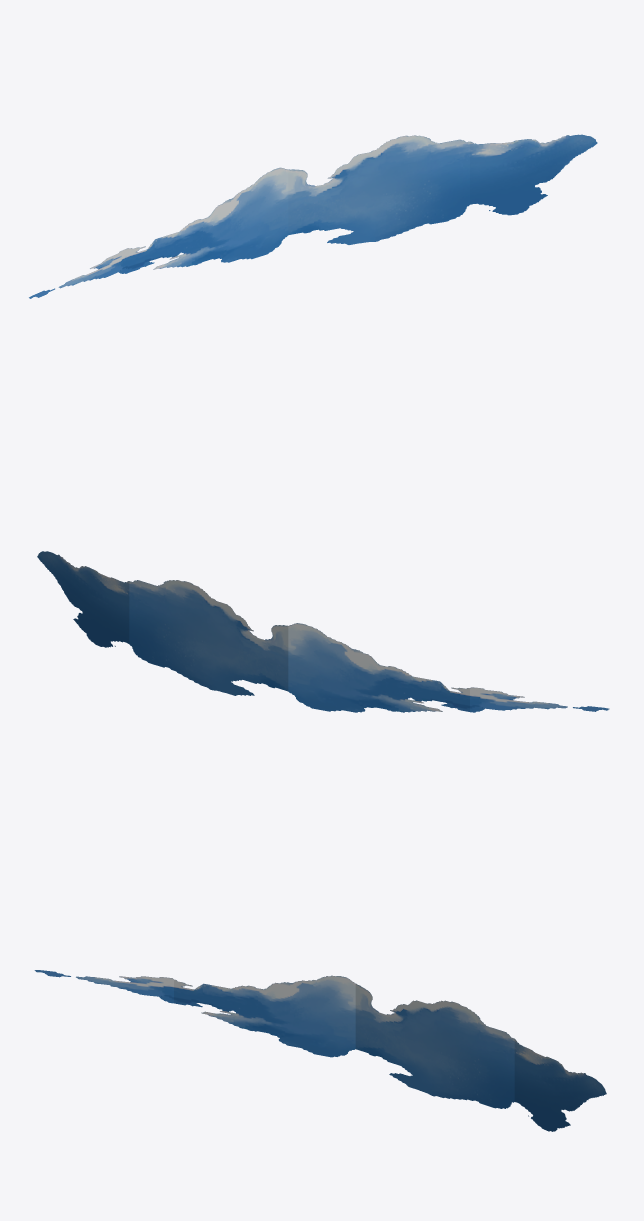
Rendered from Cloud_1_3.fbx.
The picture shows the model from 3 angles, top to bottom: view 1: azimuth 30°, elevation 25°; view 2: azimuth 150°, elevation 25°; view 3: azimuth 330°, elevation 25°; orthographic projection.
Visible parts, largest first — view 1: Cloud_1_3; view 2: Cloud_1_3; view 3: Cloud_1_3.
Part boxes in pixels (x1=…): Cloud_1_3: x1=29, y1=134, x2=597, y2=298; Cloud_1_3: x1=37, y1=551, x2=609, y2=712; Cloud_1_3: x1=34, y1=970, x2=606, y2=1131.
Bounding box in the file's own units: 200 × 70.83 × 18.94.
